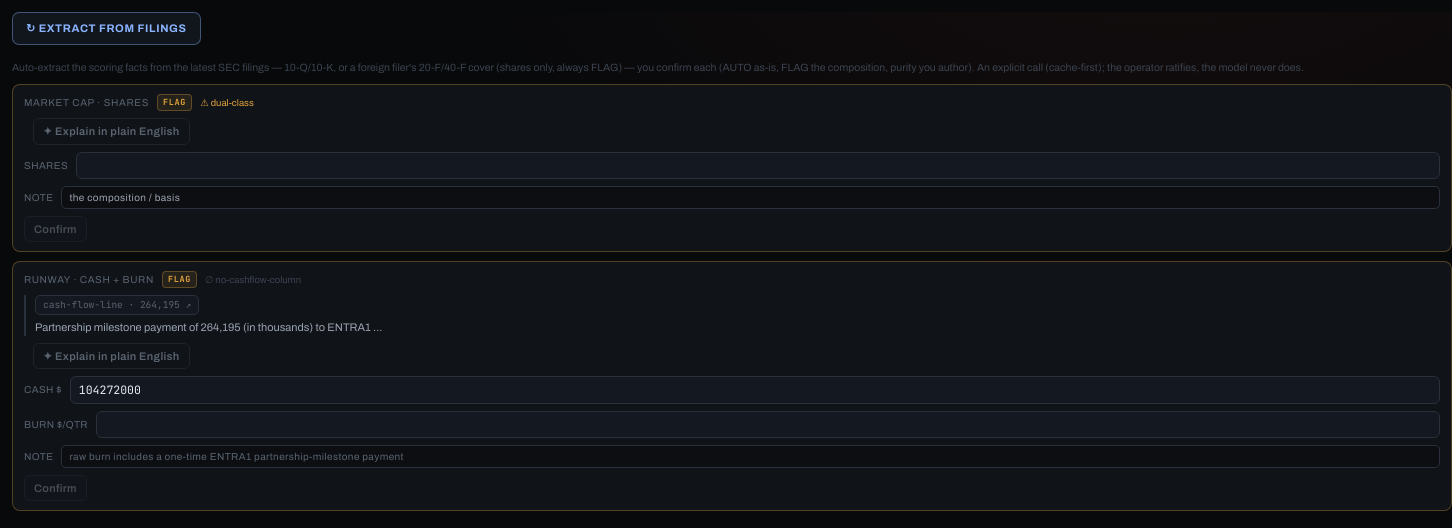
it: FactsPanel — extract → ratify › an EMPTY field can never confirm as 0 — the None-valued candidates gate their Confirm
The image size is (1452, 528).
Expected: the button "Confirm" below "market cap · shares" is disabled, [24,216,87,242]
Expected: the button "Confirm" below "/qtr" is disabled, [24,475,87,501]
Type "1129393151" into the number field labelled "shares" at [758, 165], box [76,152,1440,179]
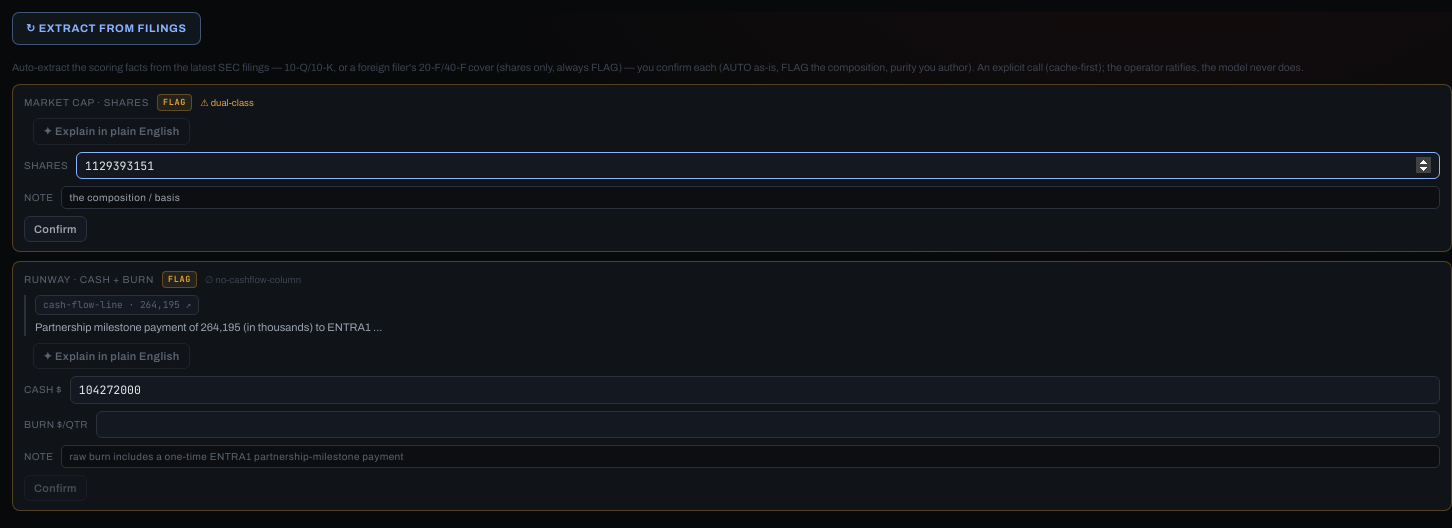
Result: the button "Confirm" below "market cap · shares" is enabled at [24,216,87,242]
Type "5452000" into the number field named "quarterly burn" at [768, 424], box [96,410,1440,438]
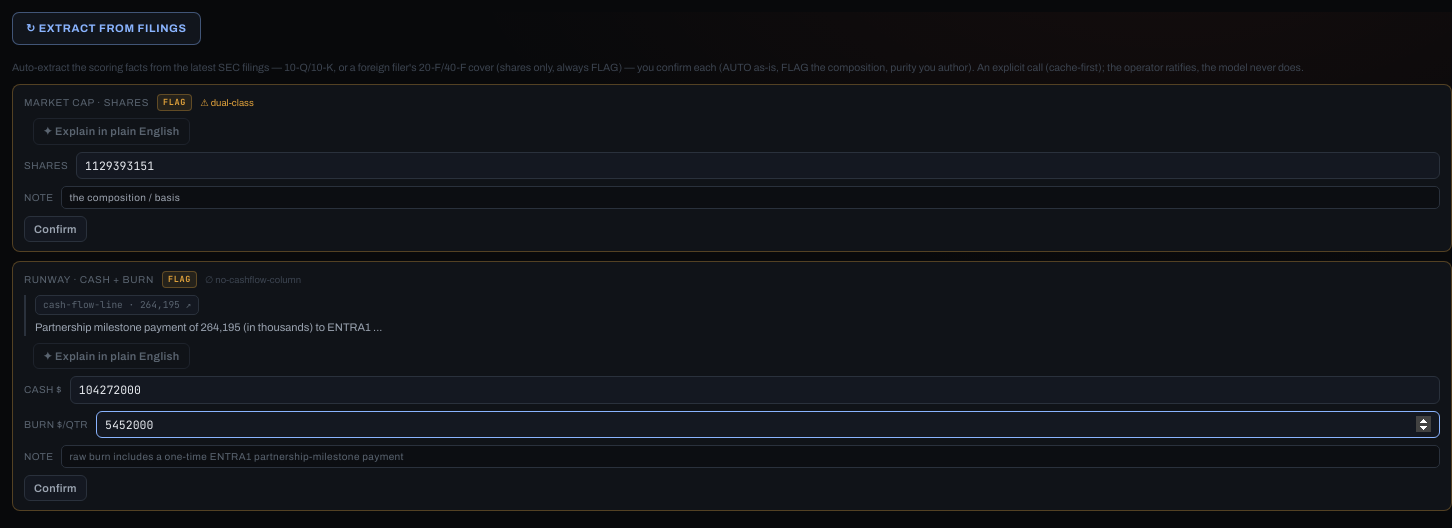
Result: the button "Confirm" below "/qtr" is enabled at [24,475,87,501]
